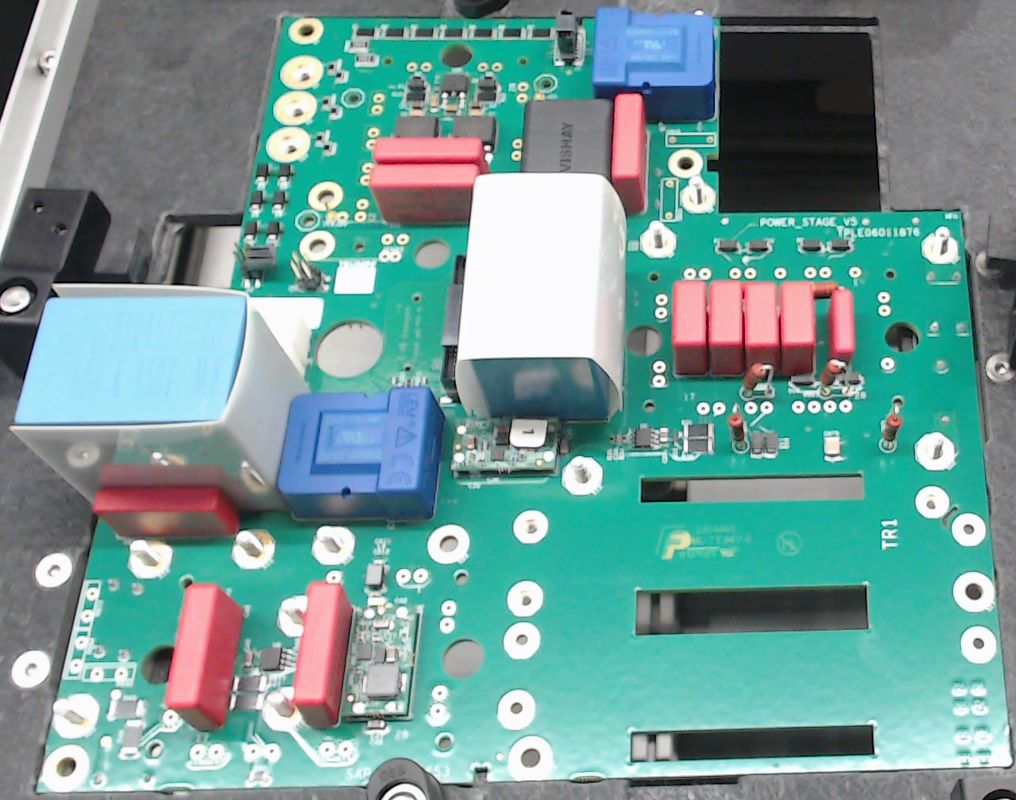comp1: (277, 387, 446, 522), (594, 7, 717, 121)
comp2: (163, 585, 243, 728), (294, 581, 350, 728), (92, 488, 241, 539), (367, 161, 480, 223), (611, 92, 648, 213), (778, 278, 815, 379), (707, 278, 743, 377), (672, 278, 706, 377), (371, 136, 486, 164), (745, 279, 776, 377), (829, 289, 855, 360)
comp3: (519, 97, 613, 176)
comp4: (10, 285, 310, 510), (454, 174, 624, 422)
